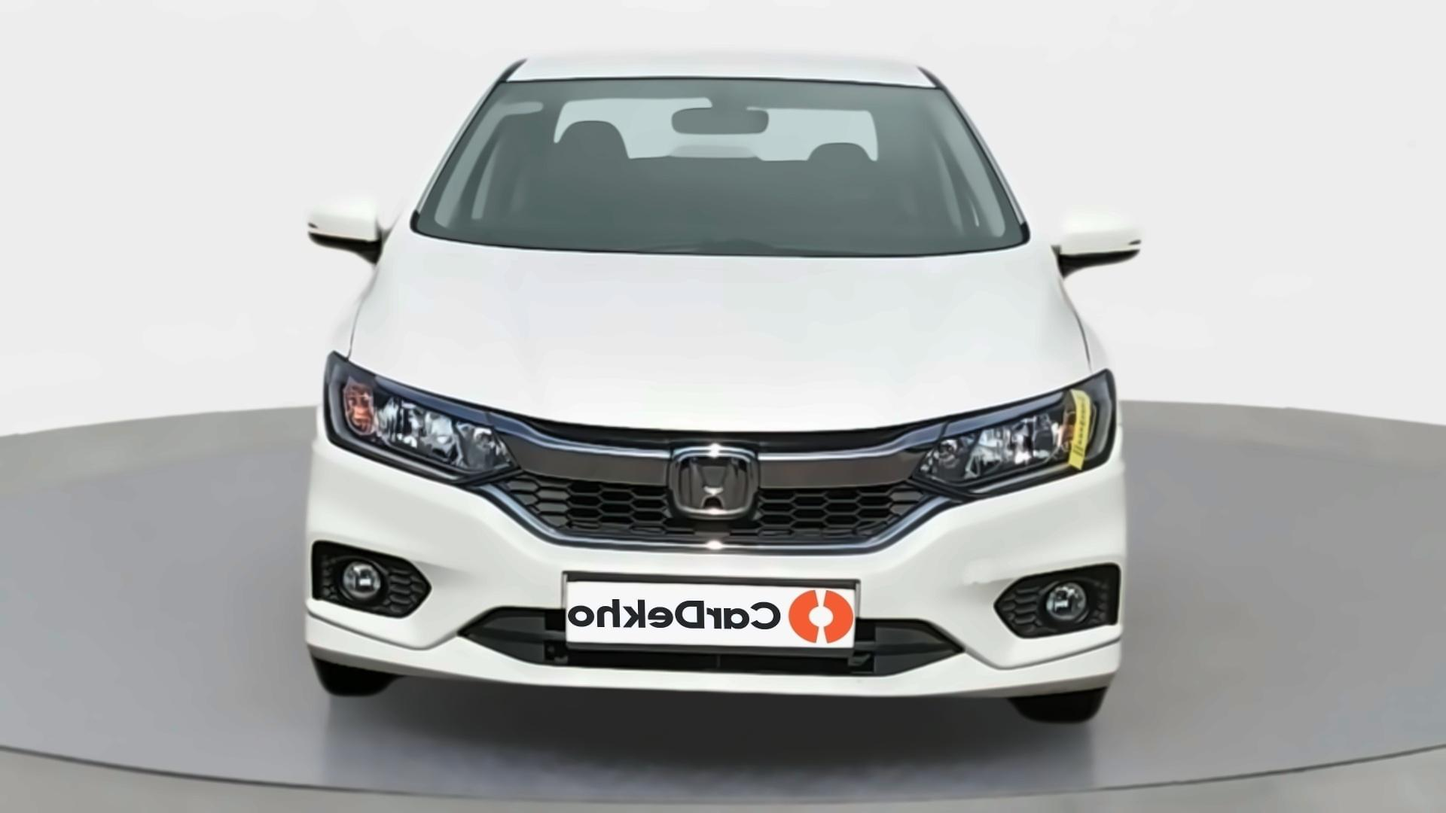Car hood: (344, 233, 1090, 447)
Front bumper: (298, 442, 1132, 705)
Headlight - -L-: (913, 368, 1121, 497)
Headlight - -R-: (323, 350, 525, 485)
Side mirror - -L-: (1051, 223, 1155, 282)
Side mirror - -R-: (305, 191, 401, 268)
